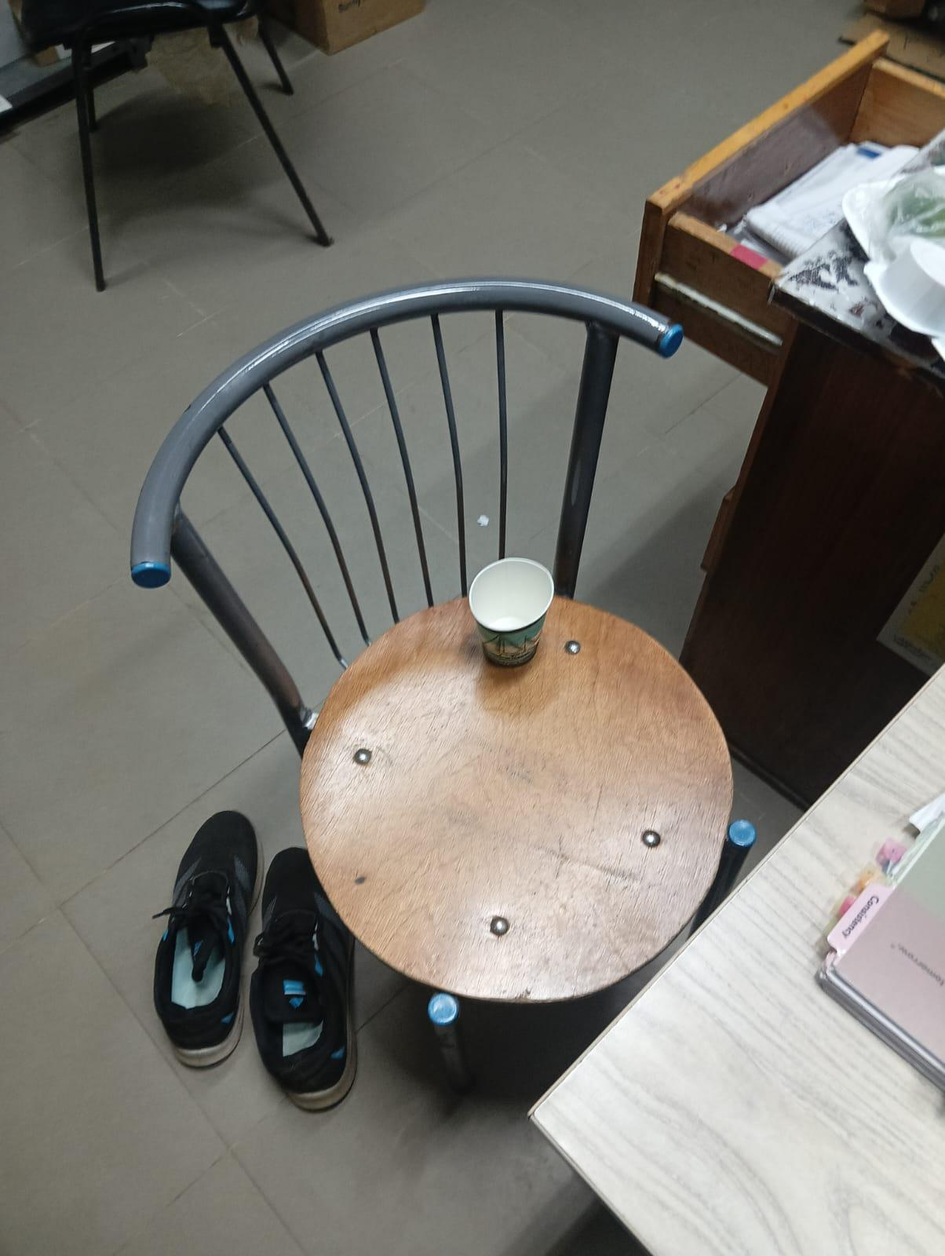cup: (469, 557, 553, 666)
